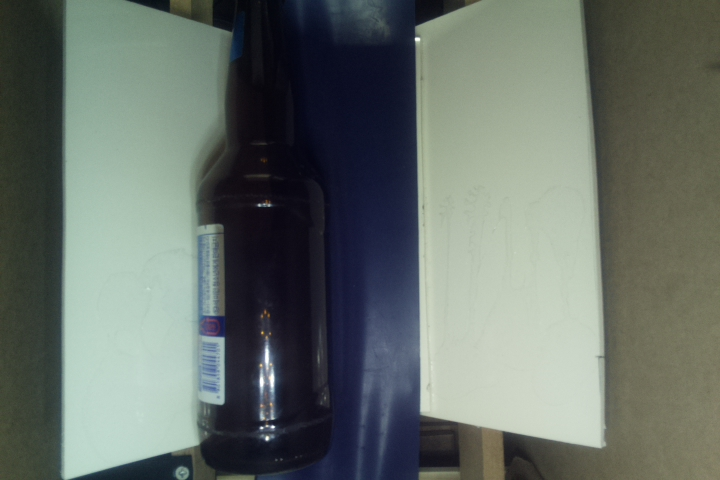makju: (194, 1, 338, 473)
